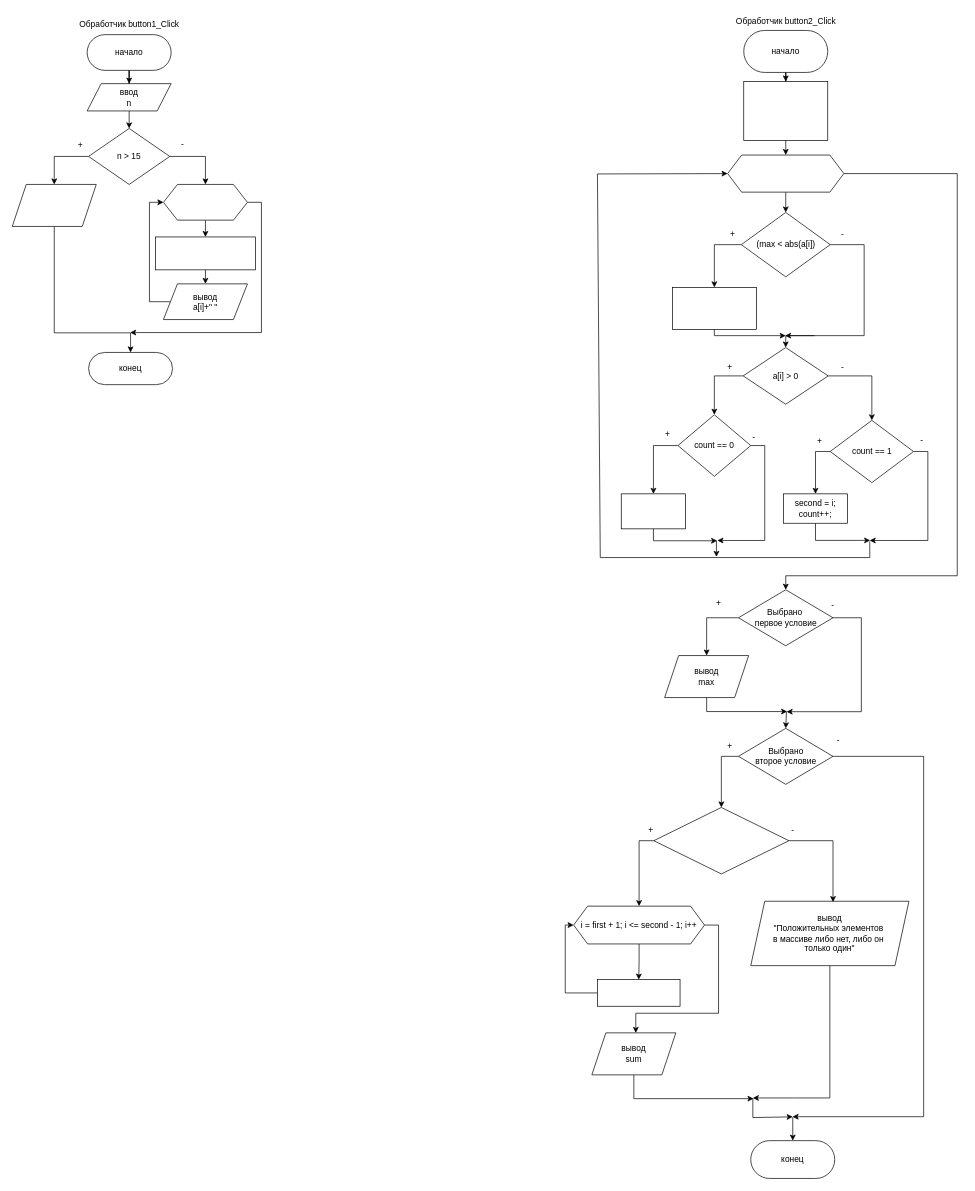
This 975x1191 diagram has some shape labels left out. Each missing label, with the centre of its shape:
a[i] = rand() % 21 - 10;: the point at 205,253
count = 0, max = a[0], sum = 0, first = 16, second = 17: the point at 785,110
first != 16 && second != 17: the point at 721,840
first = i; count++;: the point at 653,511
i = 0; i <= n - 1; i++: the point at 785,173
i = 0;i < n;i++: the point at 205,202
max = abs(a[i]);: the point at 714,308
sum += a[i];: the point at 638,992
Ошибка: the point at 54,205
